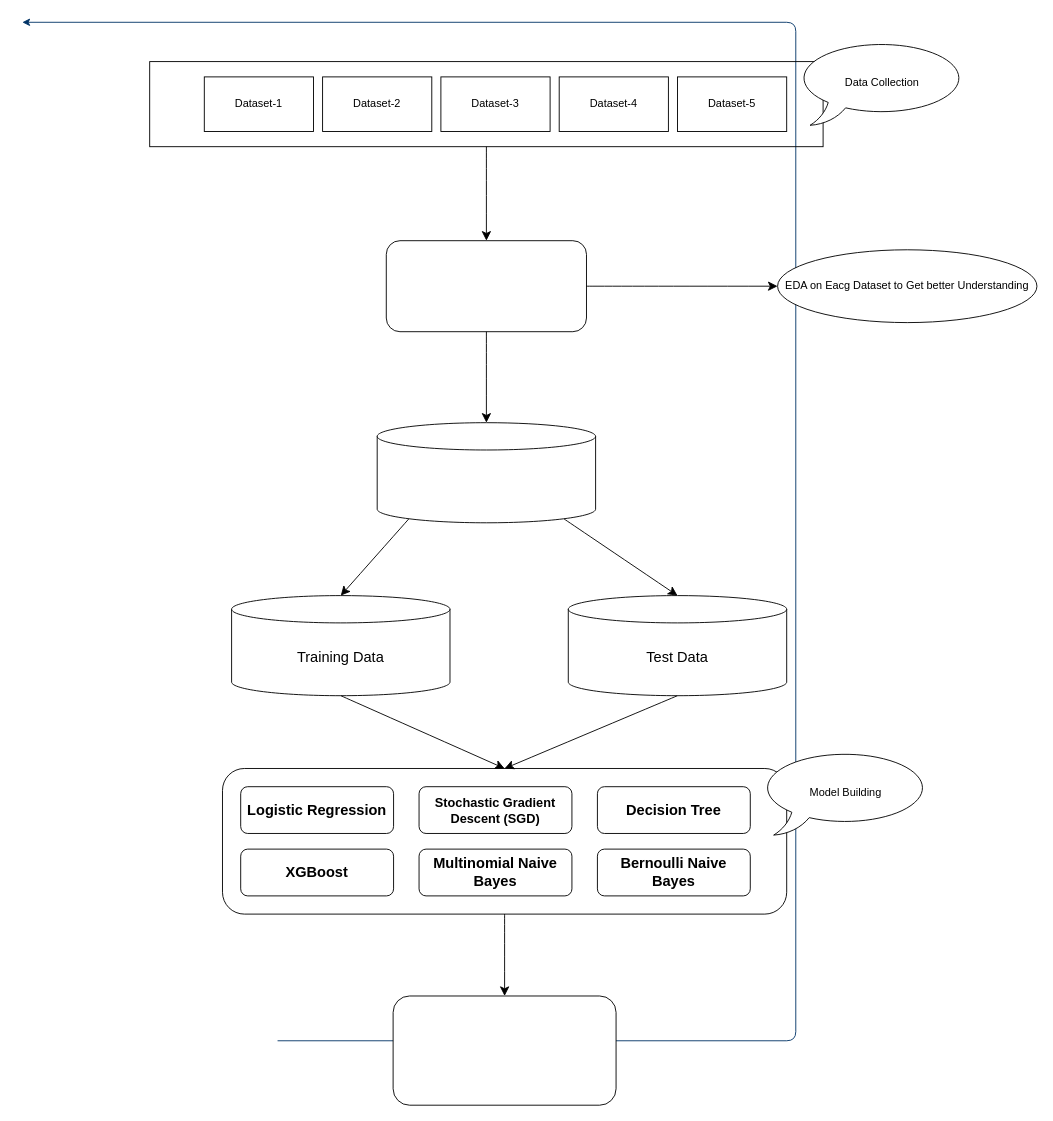
The diagram is 1053 pixels wide and 1121 high, and some of its shapes have lost their labels. The shapes that lost their labels are listed below. From the top down, each one's centre as x and y in pixels, then its label:
At point (485, 286): "Data Prepossessing on each Dataset".
At point (486, 472): "Combination of all Dataset (Article,Labels)".
At point (504, 1050): "save the Based Model for Future Use".
